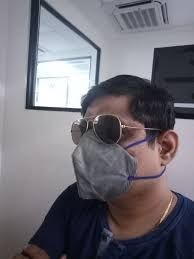with-mask: (70, 76, 184, 205)
